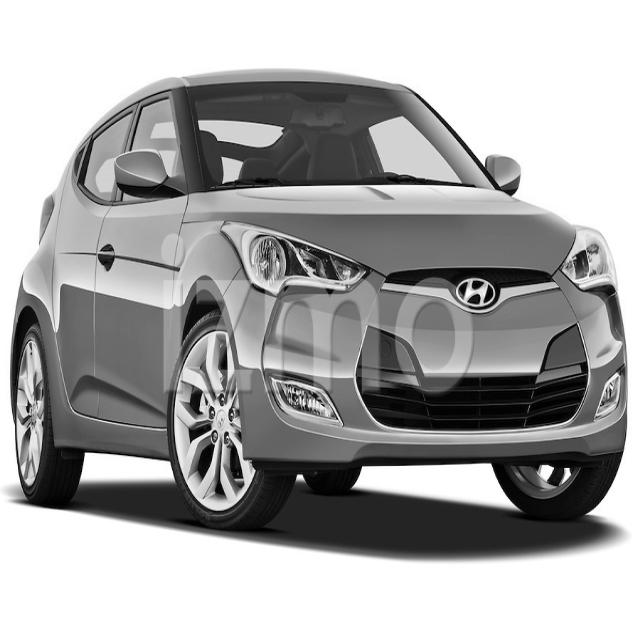car: (9, 68, 628, 531)
